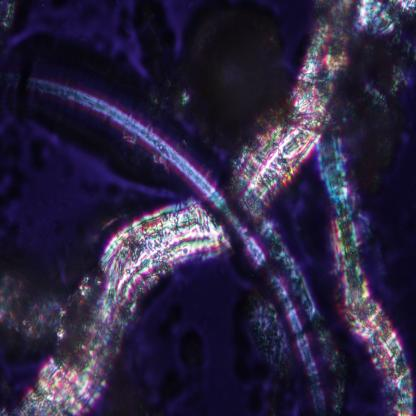Cellulose filter fibre: (18, 202, 217, 416), (242, 1, 416, 203), (317, 139, 415, 414)
Microfibre: (11, 67, 330, 412)
